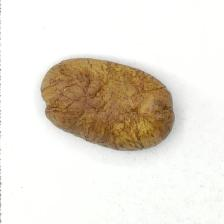NG: (57, 63, 153, 145)
